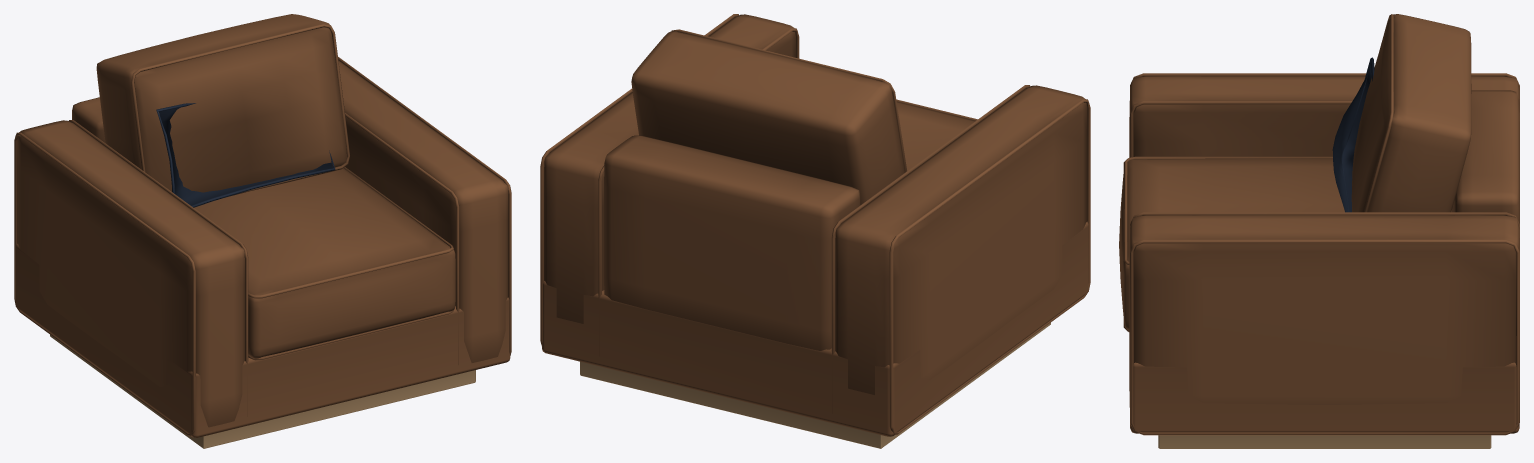
Rendered from living_armchair_cognac.gltf.
3 renders of one model, left to right at view 1: azimuth 30°, elevation 25°; view 2: azimuth 150°, elevation 25°; view 3: azimuth 270°, elevation 25°, orthographic. The views are drawn at different scales.
Parts seen in each view (by area): view 1: LivingArmchairCognac_ArmL, LivingArmchairCognac_BackCushion0, LivingArmchairCognac_Seat0, LivingArmchairCognac_Deck, LivingArmchairCognac_ArmR, LivingArmchairCognac_Piping, LivingArmchairCognac_Plinth, LivingArmchairCognac_Pillow0, LivingArmchairCognac_Pillow0Piping, LivingArmchairCognac_BackFrame; view 2: LivingArmchairCognac_ArmL, LivingArmchairCognac_BackFrame, LivingArmchairCognac_Deck, LivingArmchairCognac_BackCushion0, LivingArmchairCognac_ArmR, LivingArmchairCognac_Piping, LivingArmchairCognac_Plinth, LivingArmchairCognac_Seat0; view 3: LivingArmchairCognac_ArmR, LivingArmchairCognac_BackCushion0, LivingArmchairCognac_ArmL, LivingArmchairCognac_Deck, LivingArmchairCognac_Seat0, LivingArmchairCognac_Piping, LivingArmchairCognac_BackFrame, LivingArmchairCognac_Plinth, LivingArmchairCognac_Pillow0.
Boxes of the visible parts, x1,y1,x2,y2 form: LivingArmchairCognac_ArmL: [17, 120, 244, 427]; LivingArmchairCognac_BackCushion0: [96, 14, 346, 192]; LivingArmchairCognac_Seat0: [194, 168, 455, 358]; LivingArmchairCognac_Deck: [16, 243, 510, 437]; LivingArmchairCognac_ArmR: [338, 60, 508, 362]; LivingArmchairCognac_Piping: [14, 23, 511, 436]; LivingArmchairCognac_Plinth: [50, 335, 475, 448]; LivingArmchairCognac_Pillow0: [159, 107, 332, 205]; LivingArmchairCognac_Pillow0Piping: [156, 103, 335, 207]; LivingArmchairCognac_BackFrame: [72, 97, 105, 142]; LivingArmchairCognac_ArmL: [835, 85, 1087, 394]; LivingArmchairCognac_BackFrame: [604, 135, 860, 350]; LivingArmchairCognac_Deck: [542, 221, 1088, 436]; LivingArmchairCognac_BackCushion0: [631, 31, 904, 204]; LivingArmchairCognac_ArmR: [544, 14, 795, 323]; LivingArmchairCognac_Piping: [540, 14, 1090, 434]; LivingArmchairCognac_Plinth: [580, 322, 1050, 448]; LivingArmchairCognac_Seat0: [896, 102, 975, 170]; LivingArmchairCognac_ArmR: [1129, 215, 1519, 407]; LivingArmchairCognac_BackCushion0: [1351, 14, 1471, 212]; LivingArmchairCognac_ArmL: [1129, 76, 1519, 212]; LivingArmchairCognac_Deck: [1130, 362, 1519, 433]; LivingArmchairCognac_Seat0: [1119, 158, 1344, 329]; LivingArmchairCognac_Piping: [1123, 14, 1519, 435]; LivingArmchairCognac_BackFrame: [1454, 90, 1519, 223]; LivingArmchairCognac_Plinth: [1158, 435, 1491, 448]; LivingArmchairCognac_Pillow0: [1332, 64, 1371, 212].
Bounding box in the file's own units: 0.9812 × 0.8556 × 0.9879.
